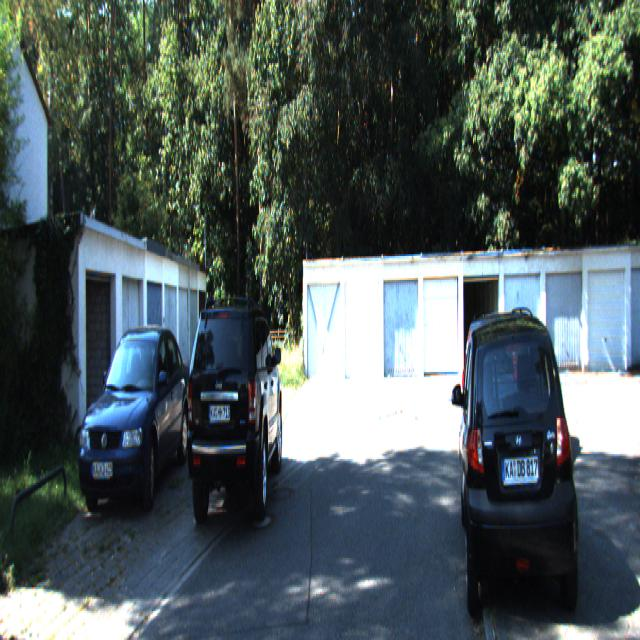Car: (455, 309, 585, 636), (184, 300, 285, 534), (76, 324, 190, 523), (461, 298, 557, 479)
